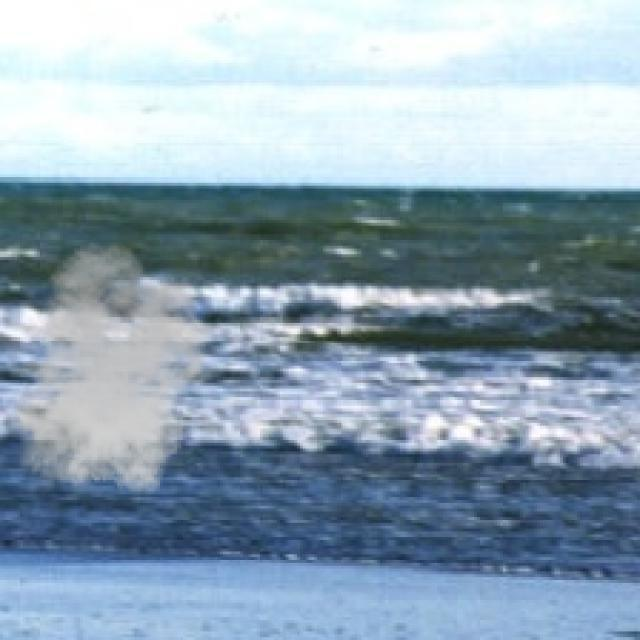Smoke: (6, 243, 214, 503)
